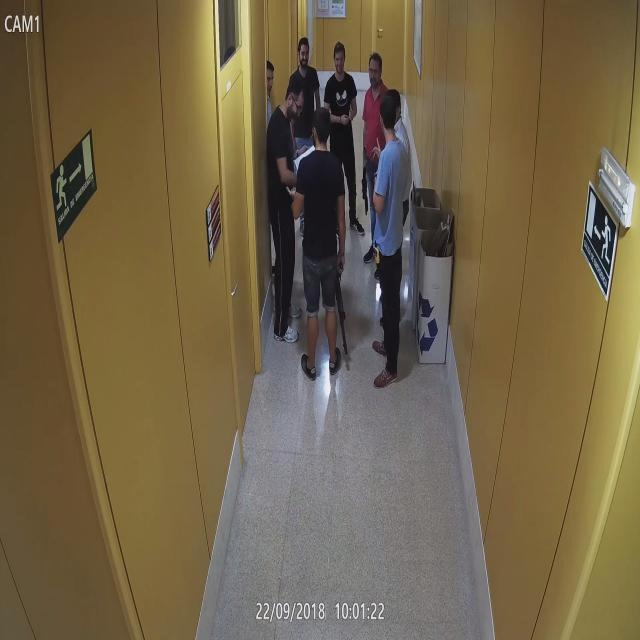weapon: (332, 270, 348, 356), (362, 168, 368, 215)
